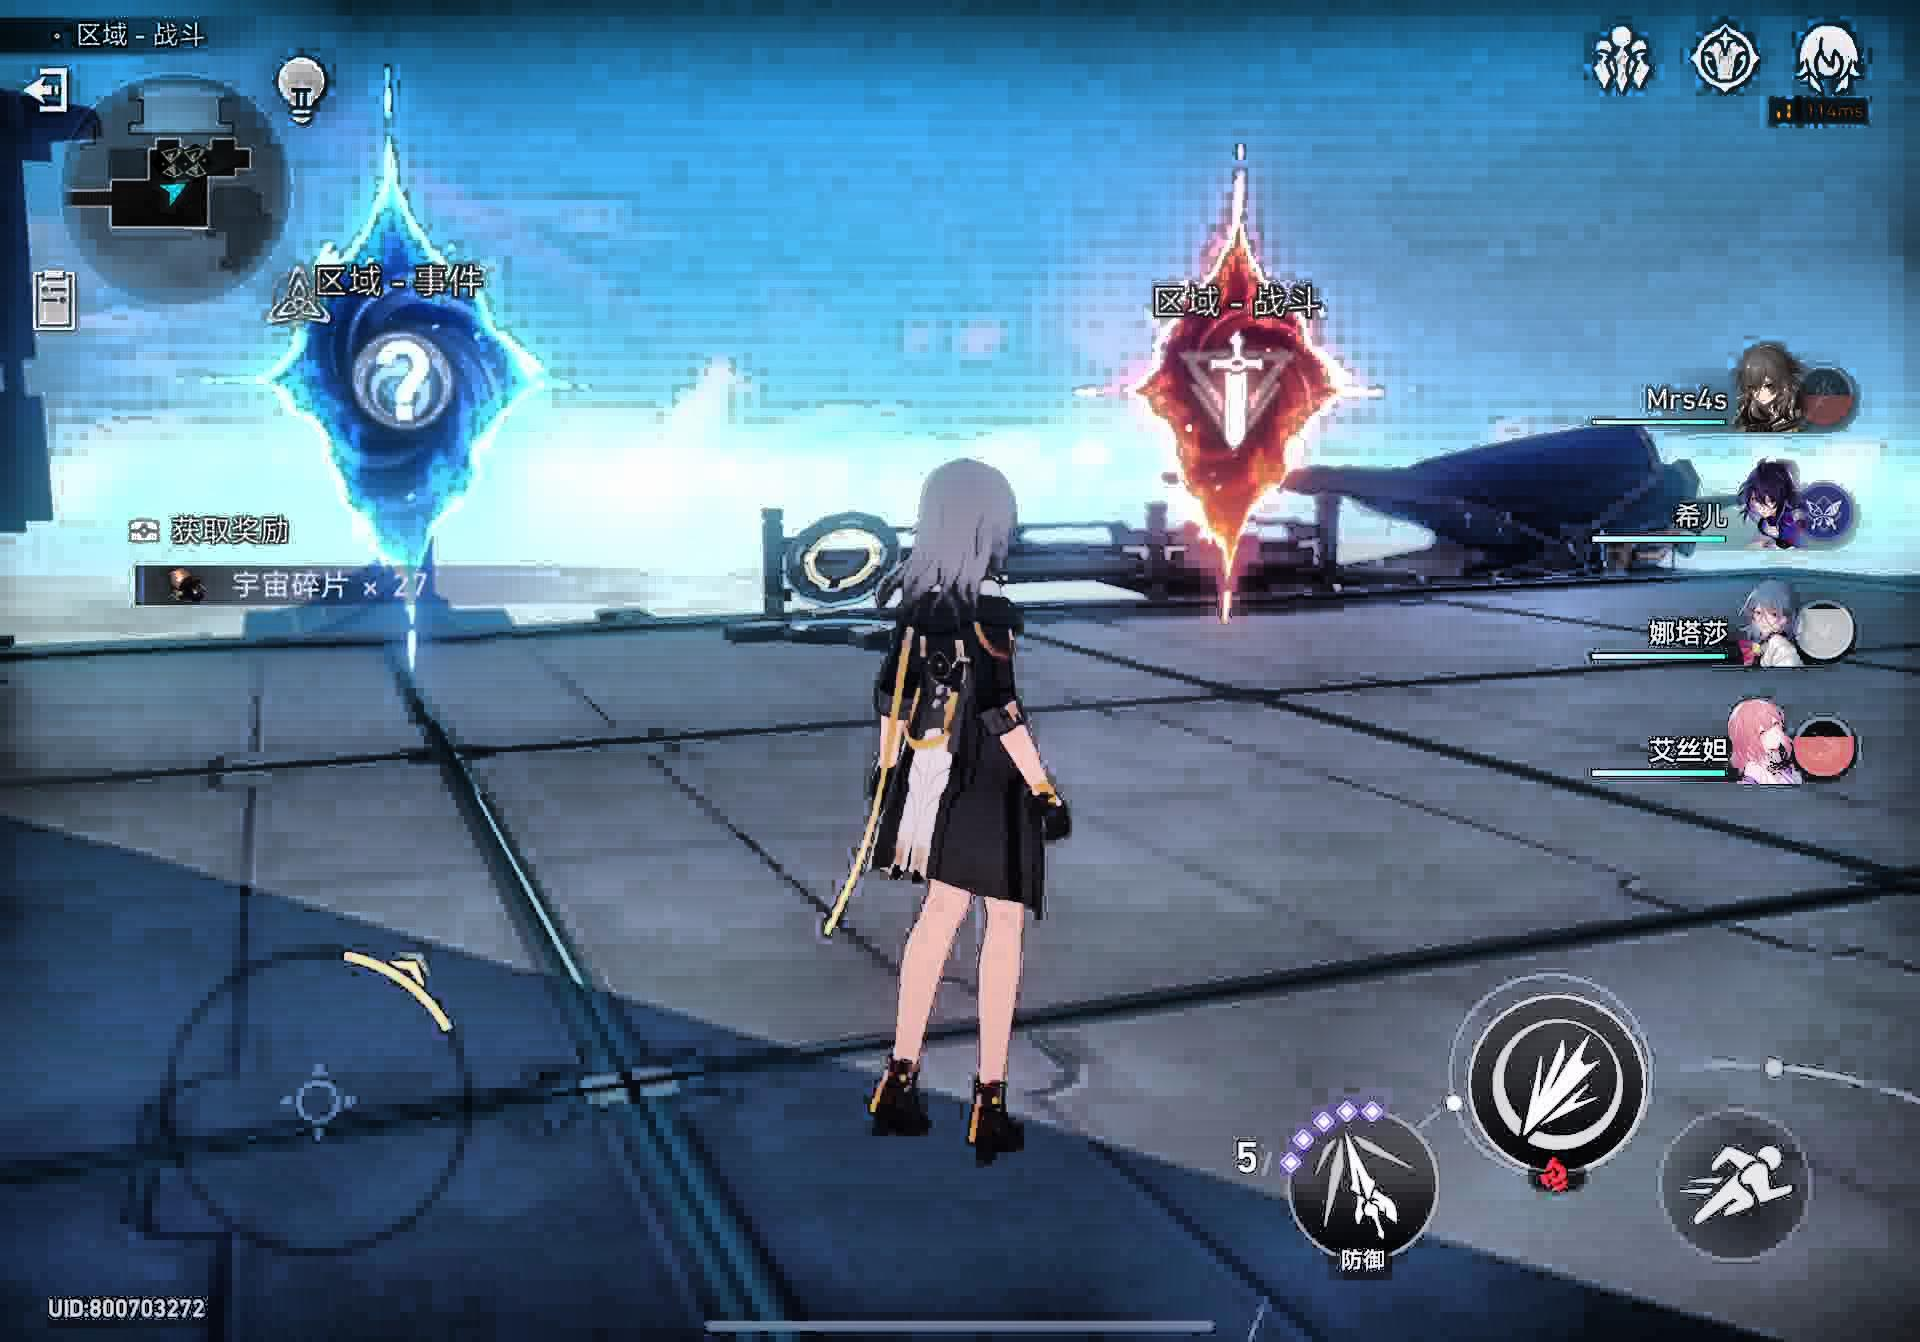BattleDoor: (1072, 182, 1396, 630)
EventDoor: (200, 152, 587, 664)
Self: (830, 454, 1067, 1157)
